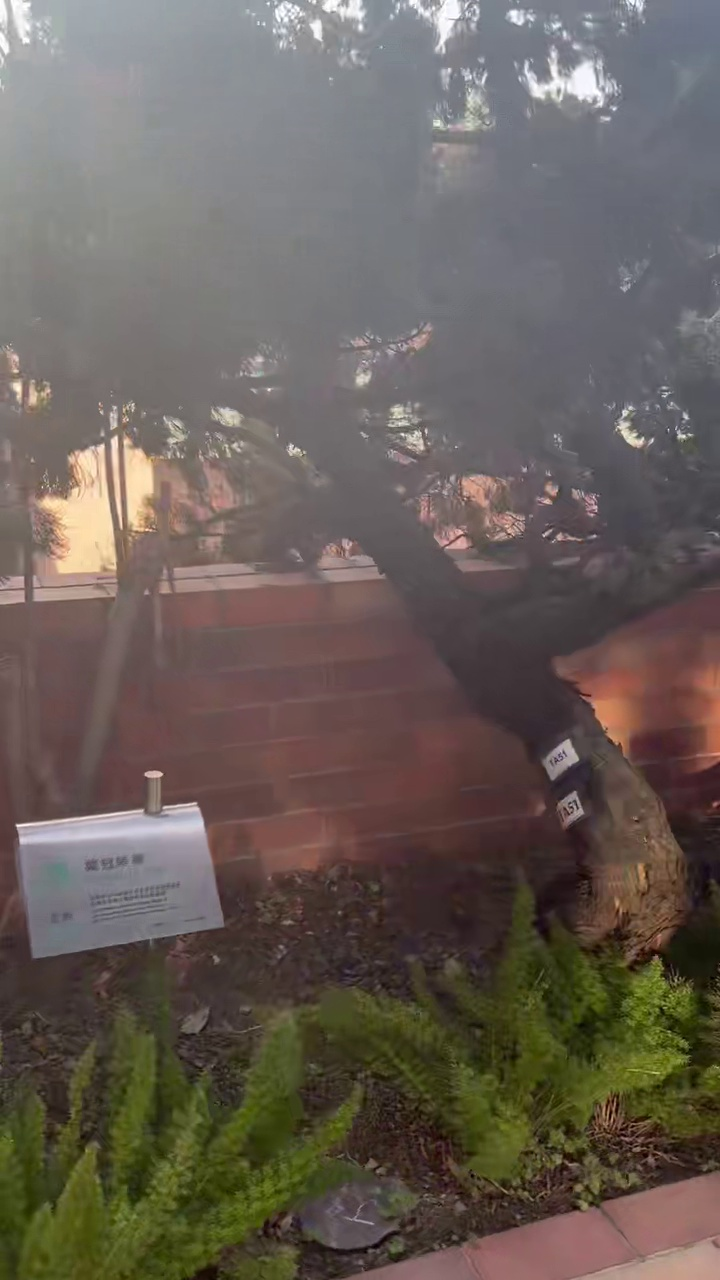Juniperus chinensis: (0, 0, 719, 951)
